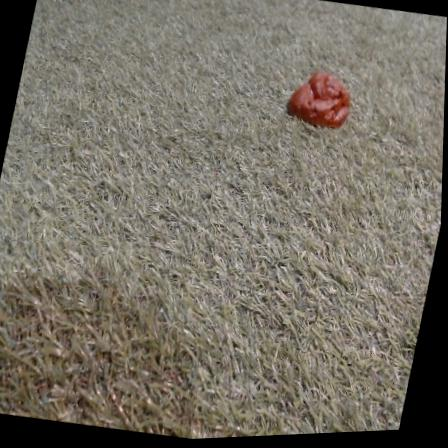dog-poop: (283, 66, 359, 137)
